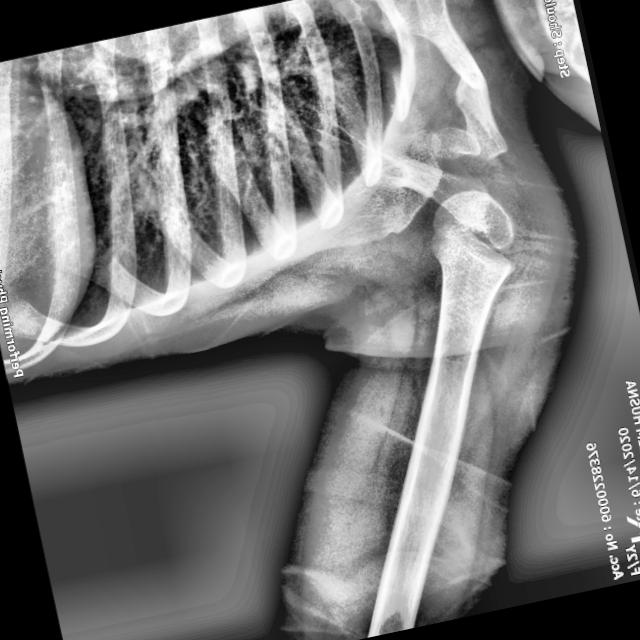Fracture: (428, 28, 500, 126)
